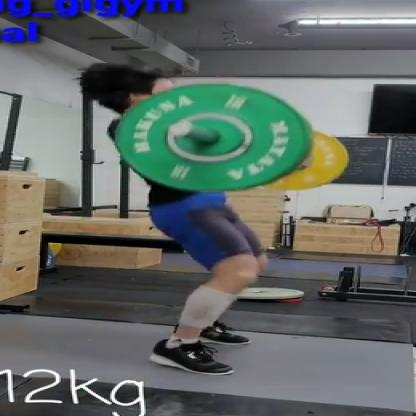Barbell: (105, 75, 324, 195)
